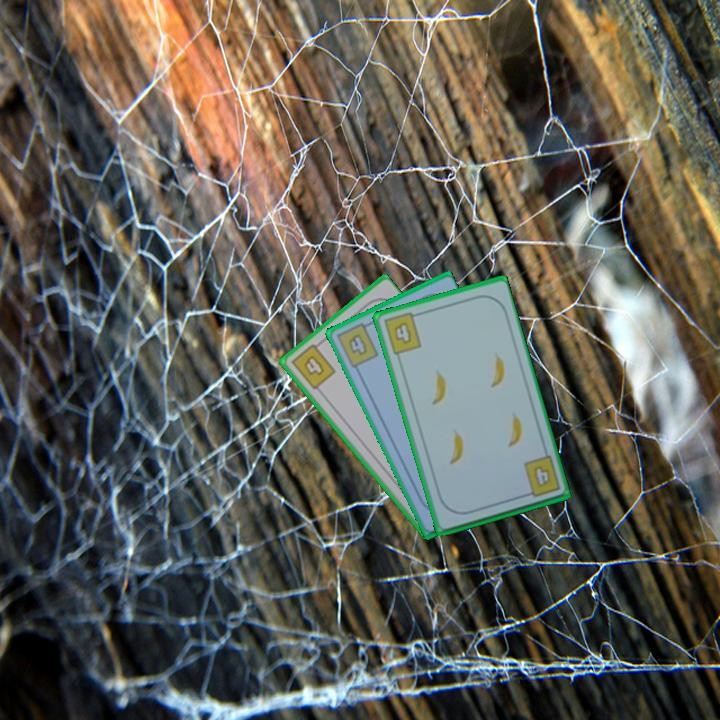4b: (287, 338, 339, 392), (333, 318, 381, 371), (380, 309, 424, 358), (519, 452, 563, 500)
